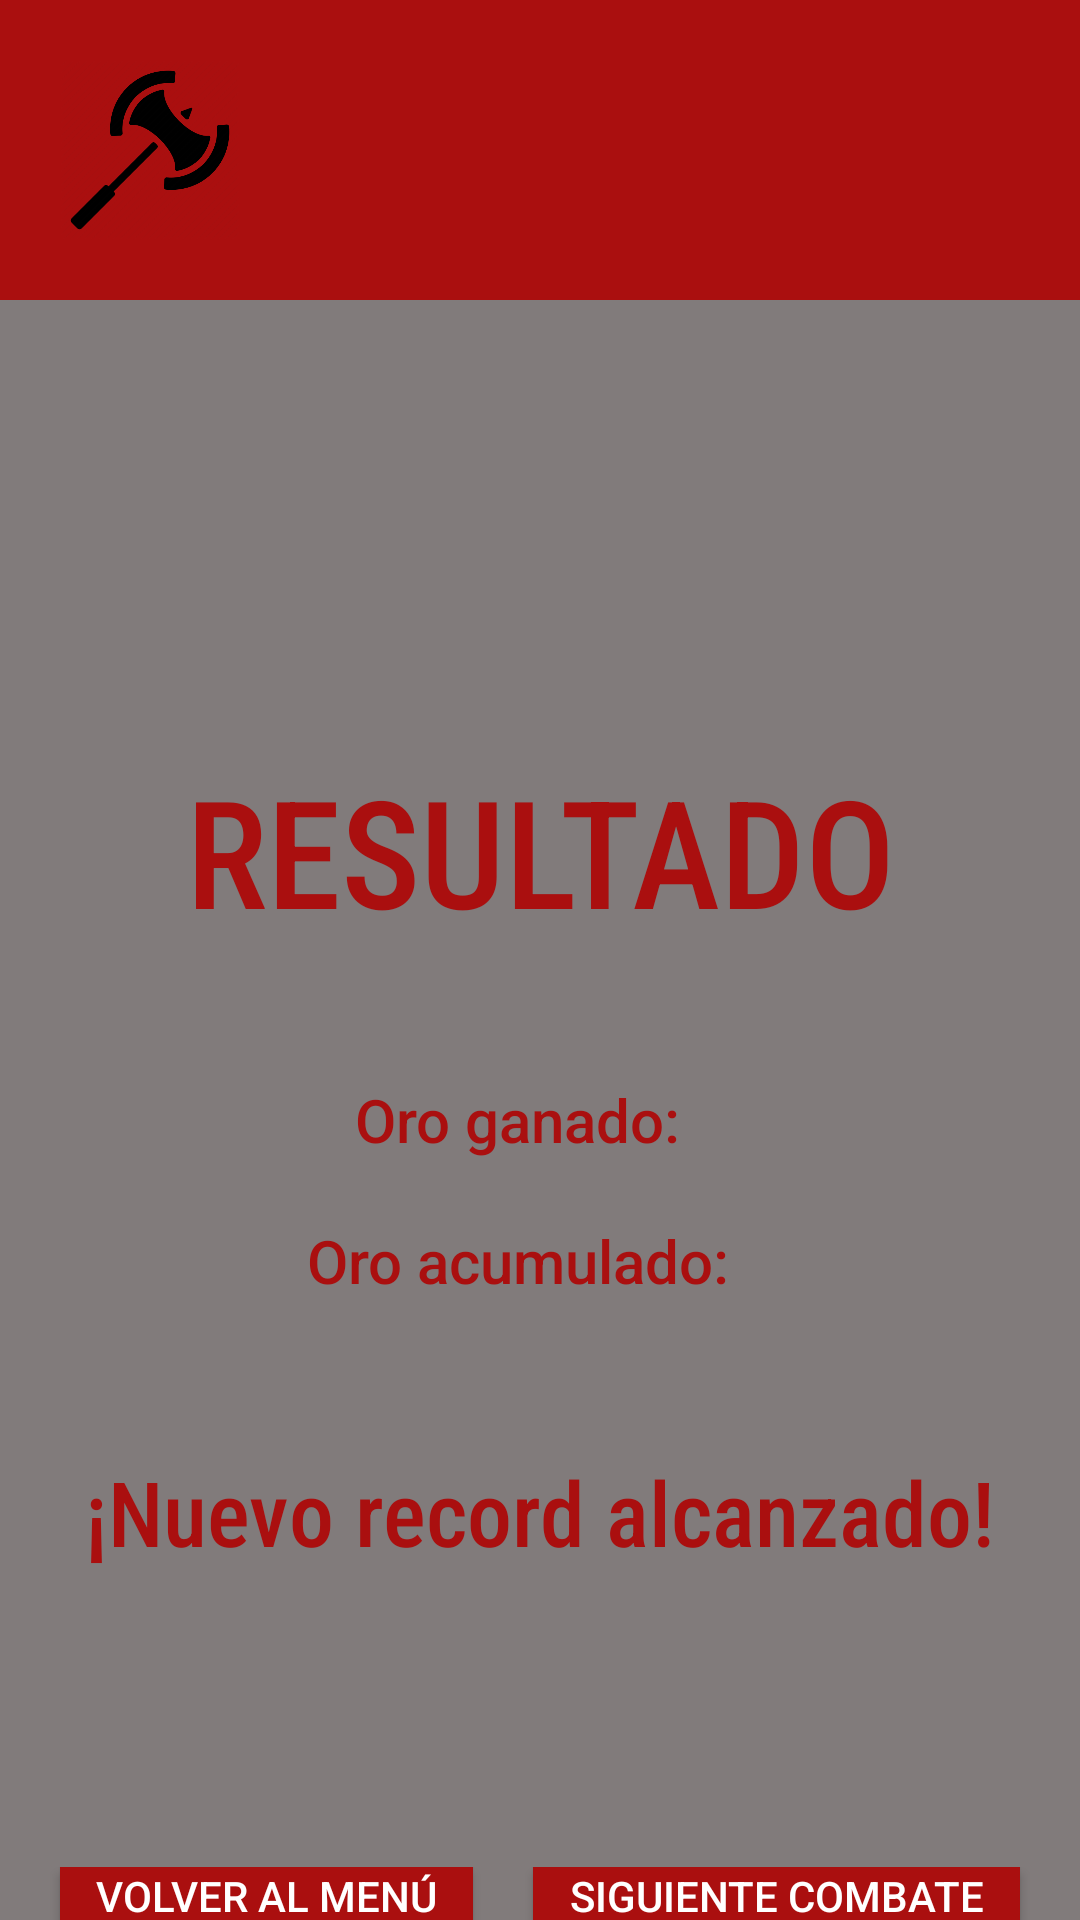

Where icons sit on this 1080px x 1920px app screen, as (x1, y1, x2, y2):
rolgameicon: (70, 70, 230, 230)
